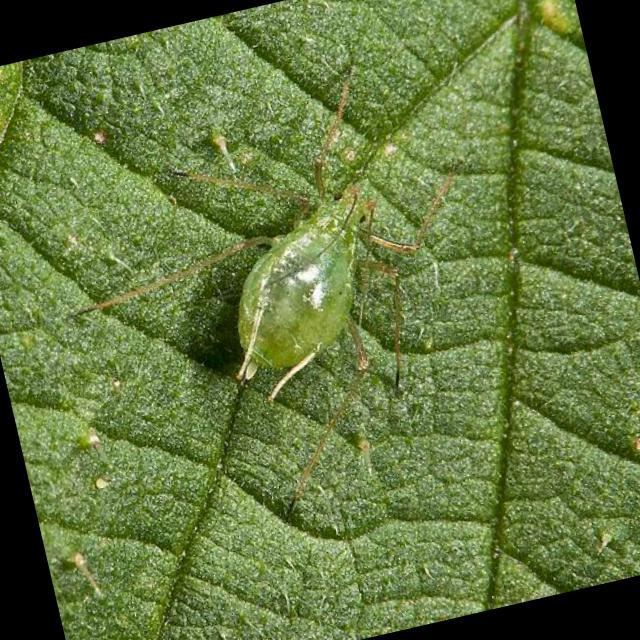Aphids: (62, 66, 530, 514)
